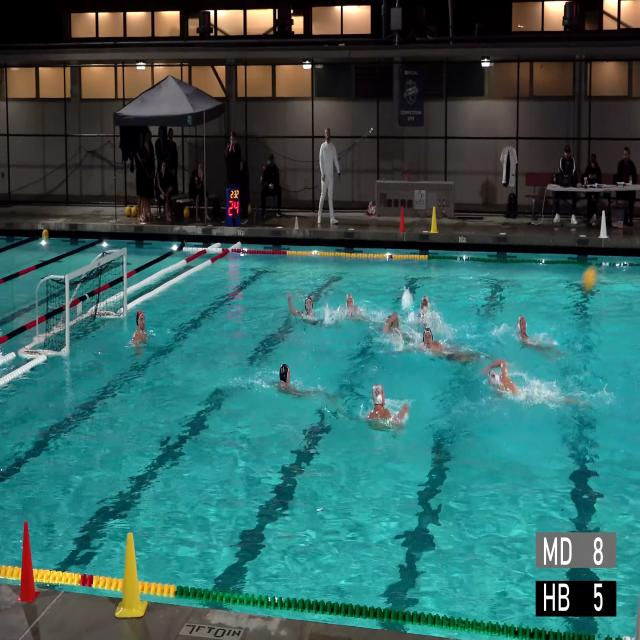ball: (582, 265, 597, 290), (125, 206, 132, 217), (42, 229, 49, 239), (183, 208, 190, 218), (132, 206, 138, 217)
